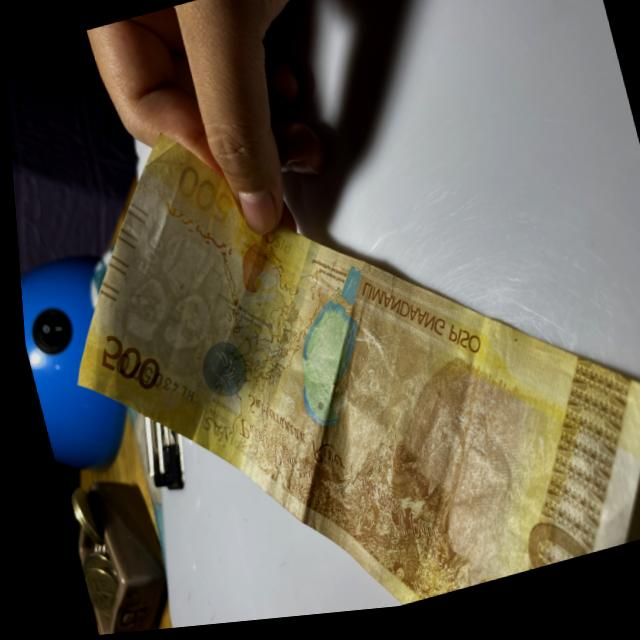500_big_parrot: (267, 264, 397, 437)
500_parrot_watermark: (224, 227, 284, 305)
value_watermark: (125, 226, 169, 278)
watermark: (100, 234, 236, 371)
